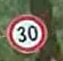limite 30: (5, 13, 49, 54)
